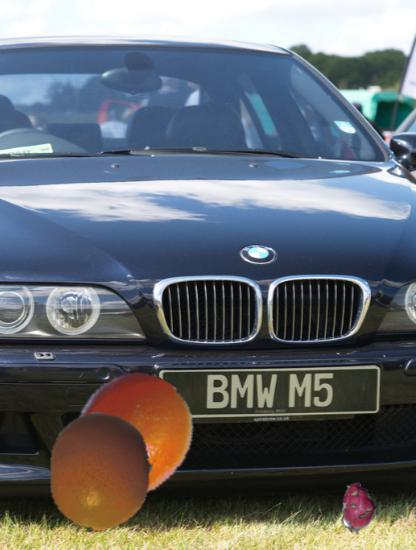Grapefruit: (43, 412, 162, 531)
Mulberry: (61, 457, 115, 511)
Pitahaya: (332, 482, 385, 535)
Tangelo: (61, 371, 198, 508)
